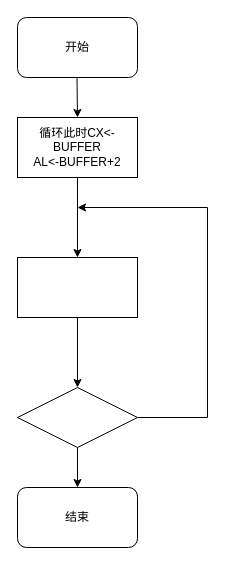
The diagram is 233 pixels wide and 565 high, and some of its shapes have lost their labels. The centre of each missing label's shape, as x and y in pixels:
AL<-[SI] AL<-AL-30H [SI]<-AL SI<-SI+1: point 77,287
CX=0?: point 77,417
